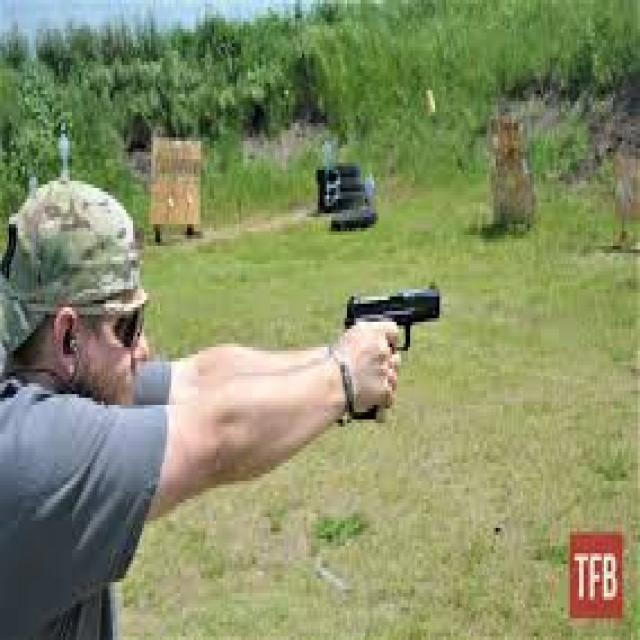weapons: (322, 267, 458, 412)
